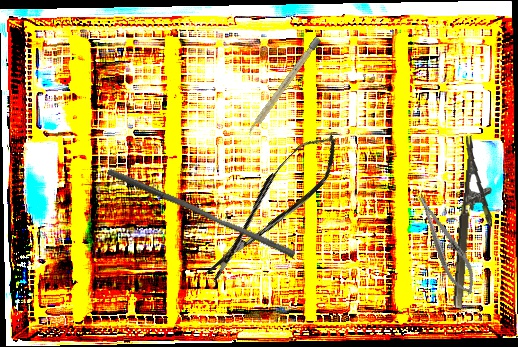Micro Scissor: (189, 123, 352, 291)
Needle Holder: (451, 134, 500, 311), (409, 189, 483, 300)
Pusher: (103, 167, 299, 259)
Scalpel Handle: (245, 36, 322, 137)
